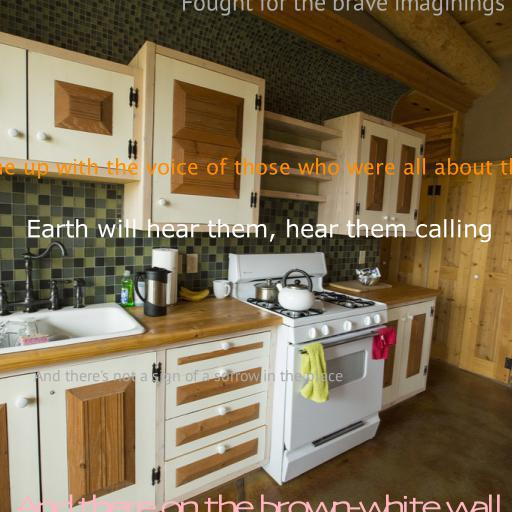Lucida Grande: (0, 157, 512, 179)
PT Sans: (181, 0, 505, 16), (33, 369, 343, 385)
Skia: (14, 494, 502, 512)
Verdana: (25, 219, 493, 243)
